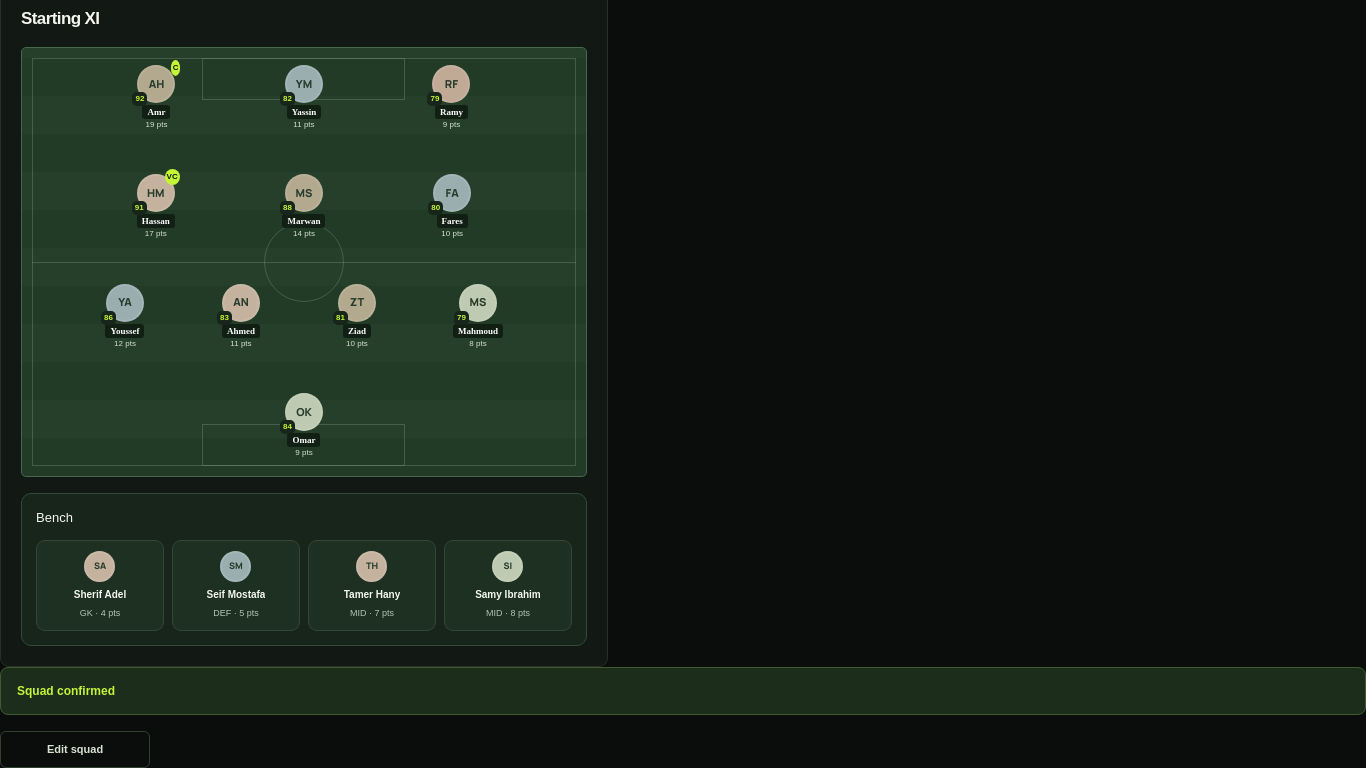
the squad page shows the pitch first › keeps exactly 11 starters on the pitch and all four saved substitutes in the bench in both modes
The width and height of the screenshot is (1366, 768).
(page scrolled)
What coordinates should you click on to do the following:
click the button with class "bench-player" showing "SA Sherif Adel GK · 4 pts"
I would click on:
 (100, 585)
Its box is 36,540 -> 164,631.
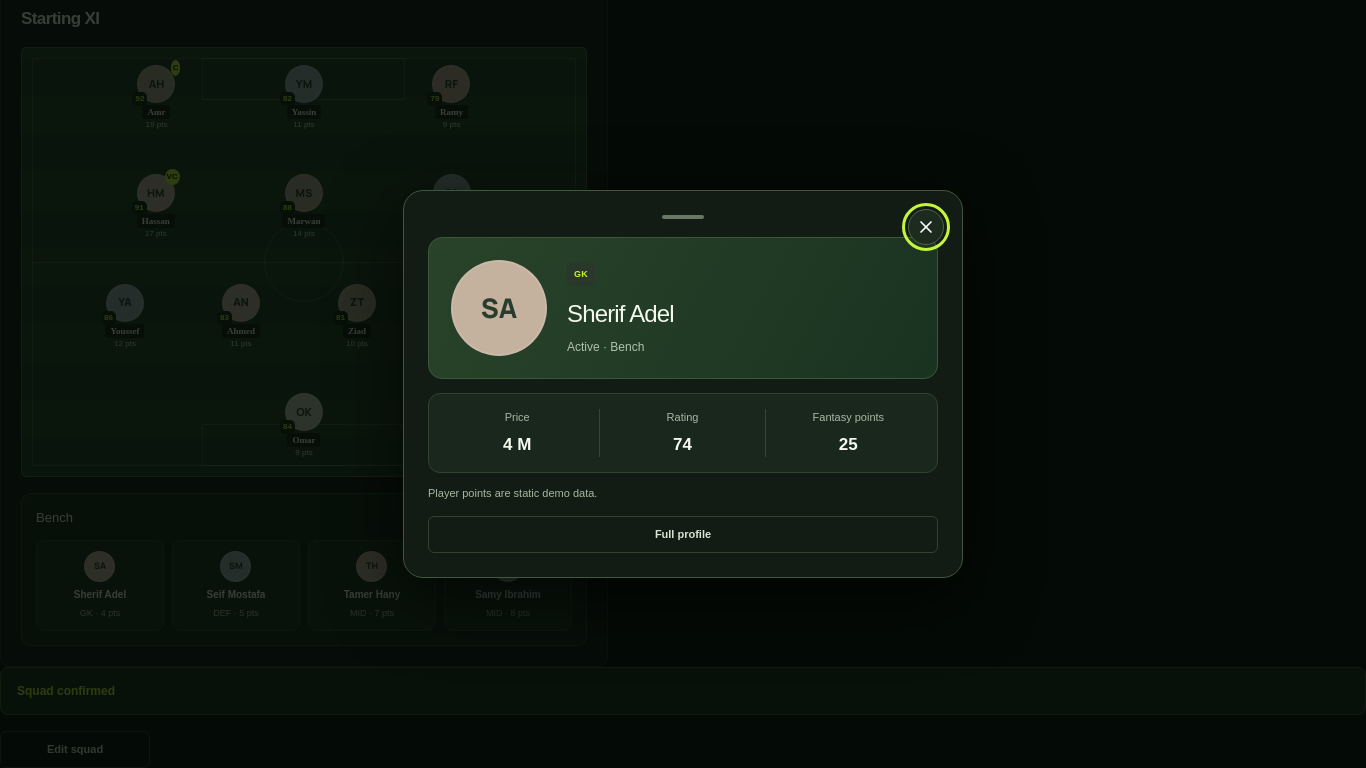
expect the dialog is shown: met, box 403,190 -> 963,578
